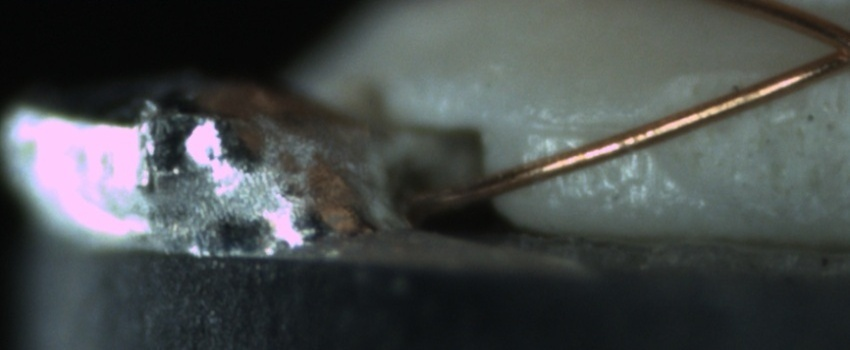CL: (802, 13, 850, 81)
DL: (522, 99, 642, 157)
